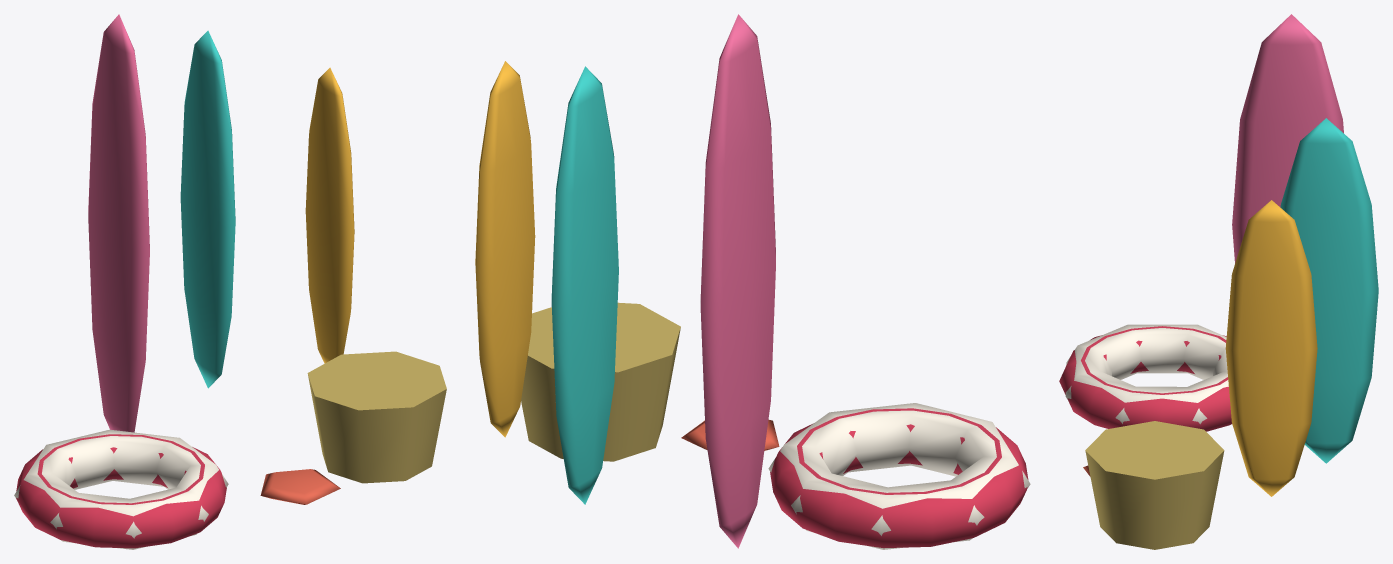
File: beach-props.glb
3 views of the same model, side by side, from view 1: azimuth 30°, elevation 25°; view 2: azimuth 150°, elevation 25°; view 3: azimuth 270°, elevation 25° (orthographic). The views are drawn at different scales.
Parts seen in each view (by area): view 1: Mesh_flamingo, Mesh_turquoise, Mesh_bamboo, Mesh_mango, Mesh_warmWhite, Mesh_crimson, Mesh_coral; view 2: Mesh_flamingo, Mesh_turquoise, Mesh_mango, Mesh_warmWhite, Mesh_crimson, Mesh_bamboo, Mesh_coral; view 3: Mesh_mango, Mesh_turquoise, Mesh_bamboo, Mesh_flamingo, Mesh_warmWhite, Mesh_crimson.
Part boxes in pixels (x1,y1,x2,y2): Mesh_flamingo: (88,14,149,432); Mesh_turquoise: (180,30,235,388); Mesh_bamboo: (307,351,446,483); Mesh_mango: (305,67,354,363); Mesh_warmWhite: (14,429,228,549); Mesh_crimson: (16,434,226,548); Mesh_coral: (260,469,340,504); Mesh_flamingo: (700,14,775,548); Mesh_turquoise: (551,66,618,504); Mesh_mango: (475,61,535,437); Mesh_warmWhite: (768,403,1030,549); Mesh_crimson: (770,408,1028,548); Mesh_bamboo: (521,302,680,461); Mesh_coral: (681,419,779,450); Mesh_mango: (1225,200,1317,496); Mesh_turquoise: (1280,118,1378,463); Mesh_bamboo: (1085,421,1224,549); Mesh_flamingo: (1232,14,1343,263); Mesh_warmWhite: (1065,324,1228,424); Mesh_crimson: (1059,326,1231,431).
Size of the model in its own units: 1.82 by 1.89 by 1.29.
